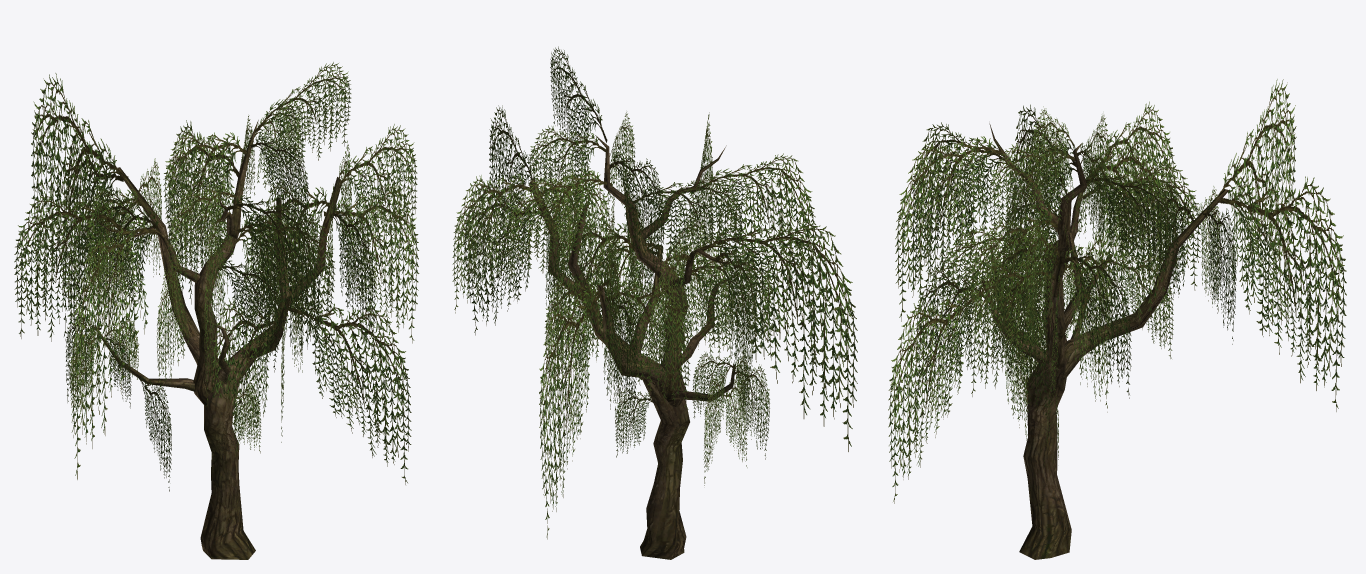
File: liushu_65.FBX
3 views of the same model, side by side, from view 1: azimuth 30°, elevation 25°; view 2: azimuth 150°, elevation 25°; view 3: azimuth 270°, elevation 25° (orthographic). The views are drawn at different scales.
Parts seen in each view (by area): view 1: liushu_65_shuye, liushu_65_ncl1_2; view 2: liushu_65_shuye, liushu_65_ncl1_2; view 3: liushu_65_shuye, liushu_65_ncl1_2.
Boxes of the visible parts, x1=… form: liushu_65_shuye: x1=14, y1=62, x2=419, y2=491; liushu_65_ncl1_2: x1=94, y1=120, x2=341, y2=559; liushu_65_shuye: x1=452, y1=46, x2=857, y2=539; liushu_65_ncl1_2: x1=528, y1=135, x2=737, y2=559; liushu_65_shuye: x1=888, y1=79, x2=1346, y2=503; liushu_65_ncl1_2: x1=982, y1=123, x2=1228, y2=559.
Size of what is drawn, in the model's own units: 1160 by 1457 by 1185.
